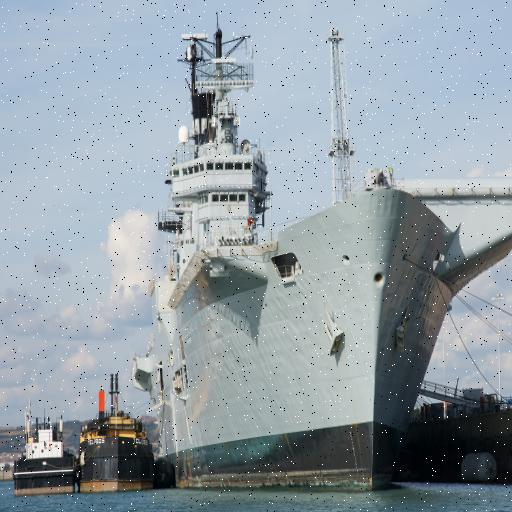Portanaves: (132, 5, 512, 499)
